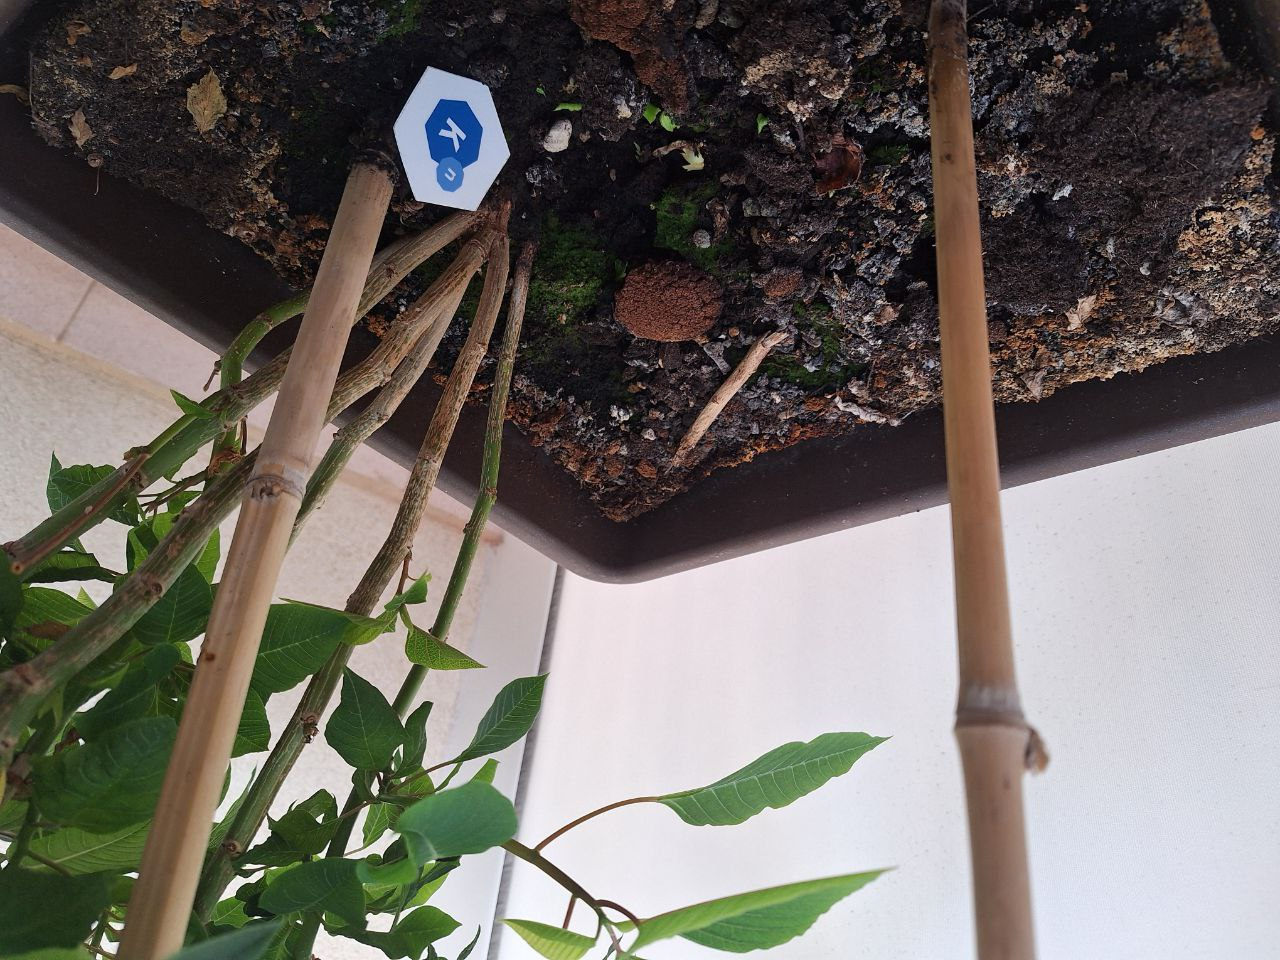knative: (423, 101, 483, 189)
